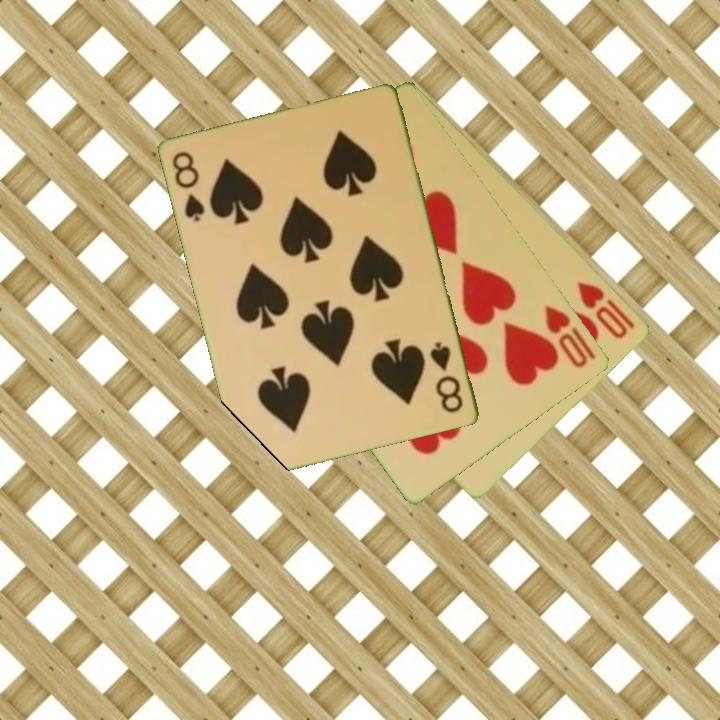10h: (541, 301, 599, 371), (573, 277, 631, 342)
8s: (427, 338, 467, 416), (169, 148, 209, 225)
